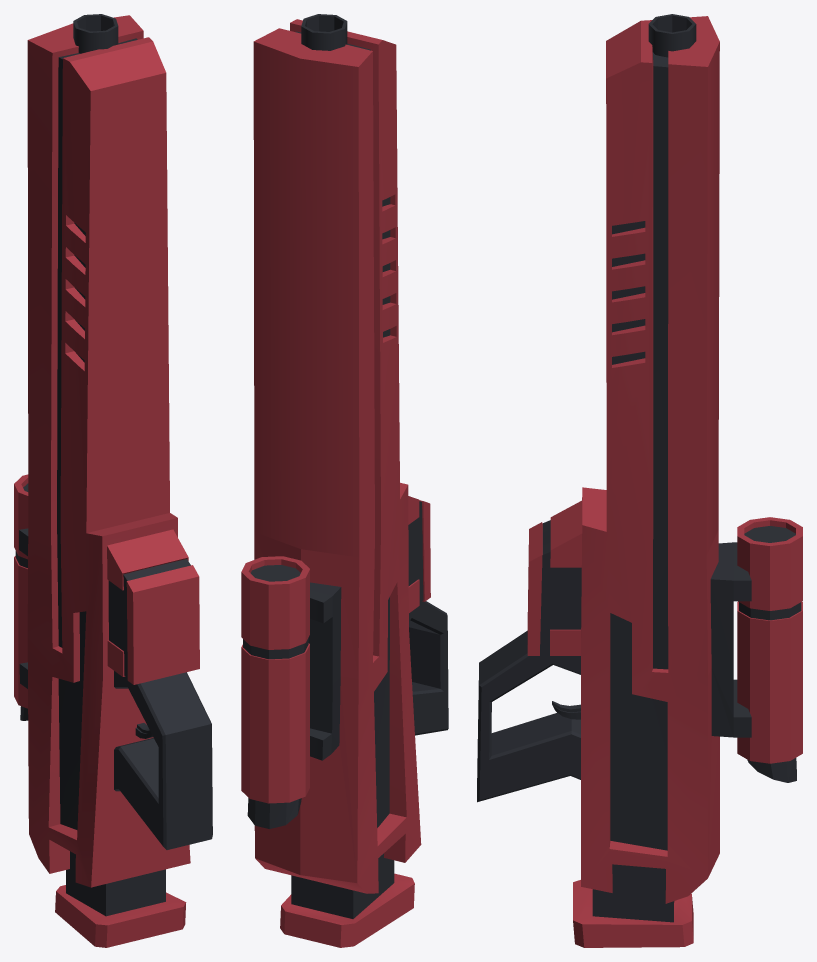
File: low poly scifi gun011.fbx
The picture shows the model from 3 angles, left to right: view 1: azimuth 30°, elevation 25°; view 2: azimuth 150°, elevation 25°; view 3: azimuth 270°, elevation 25°; orthographic projection. The views are drawn at different scales.
Visible parts, largest first — view 1: low poly scifi gun011; view 2: low poly scifi gun011; view 3: low poly scifi gun011.
Part boxes in pixels (bbox=[...]): low poly scifi gun011: bbox=[14, 14, 212, 947]; low poly scifi gun011: bbox=[241, 14, 448, 947]; low poly scifi gun011: bbox=[477, 14, 802, 947].
Size of the model in its own units: 3.2 by 26.48 by 8.64.
